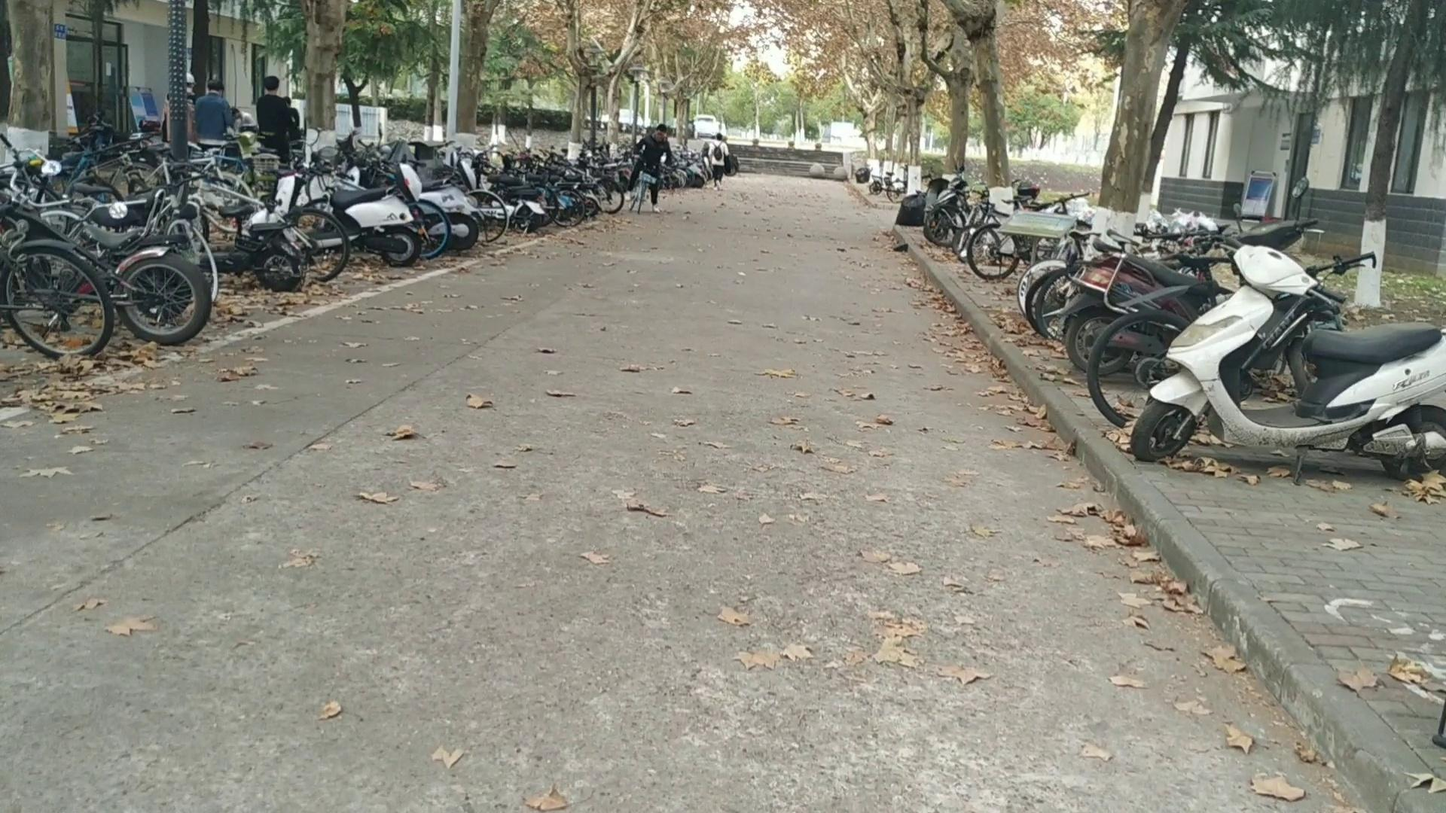car: (688, 115, 725, 139)
